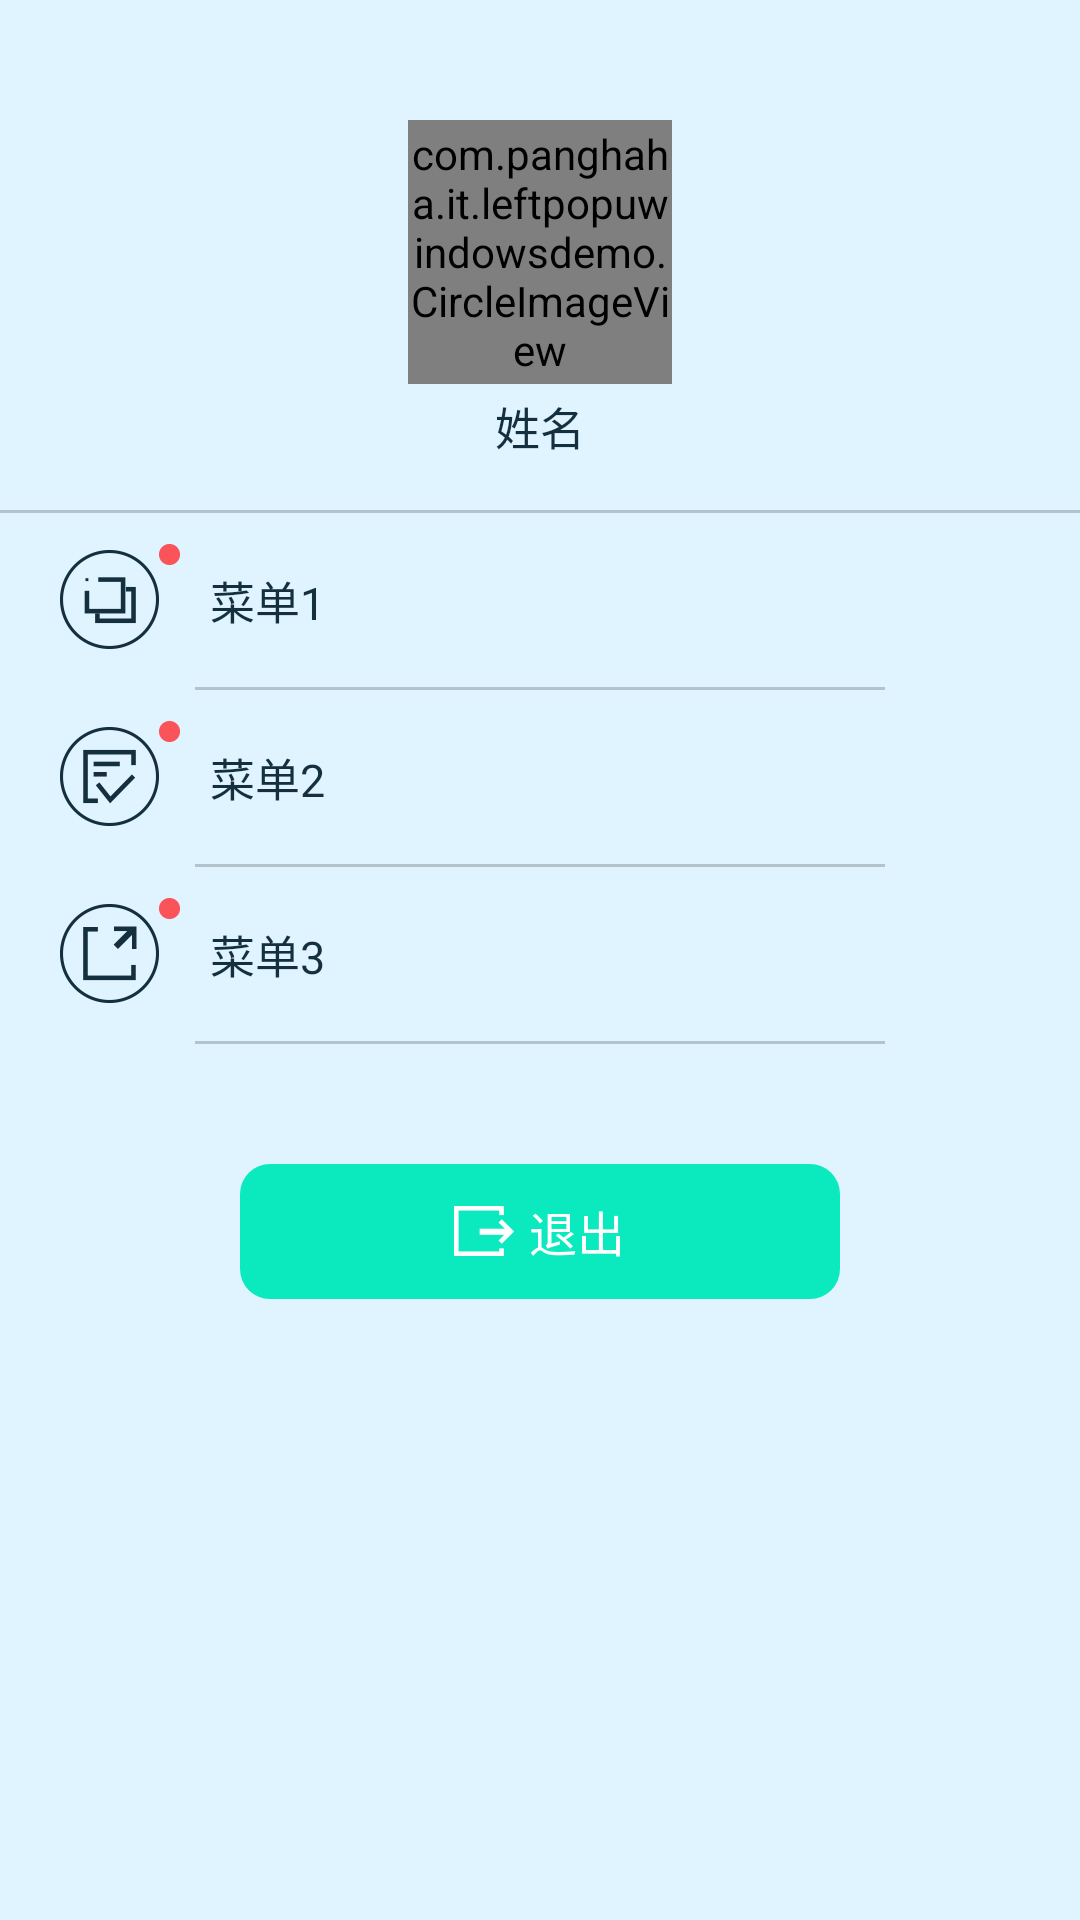

Where to tap for icons on this 1080w x 1920h app screen, as (x=x, y=y):
left bar daibanrenwu: (x=109, y=599)
left bar xiafarenwu: (x=109, y=953)
left bar yibanrenwu: (x=109, y=776)
